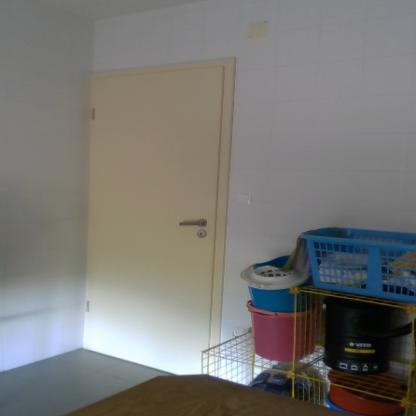door: (92, 78, 211, 376)
hinged: (91, 106, 96, 120), (86, 300, 90, 313)
lever: (178, 220, 206, 228)
